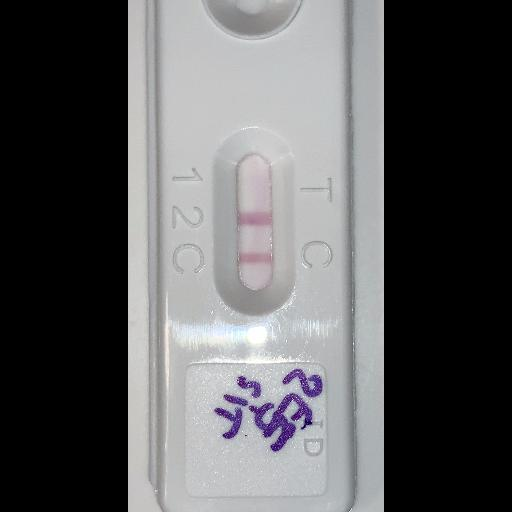Pos: (154, 0, 352, 511)
